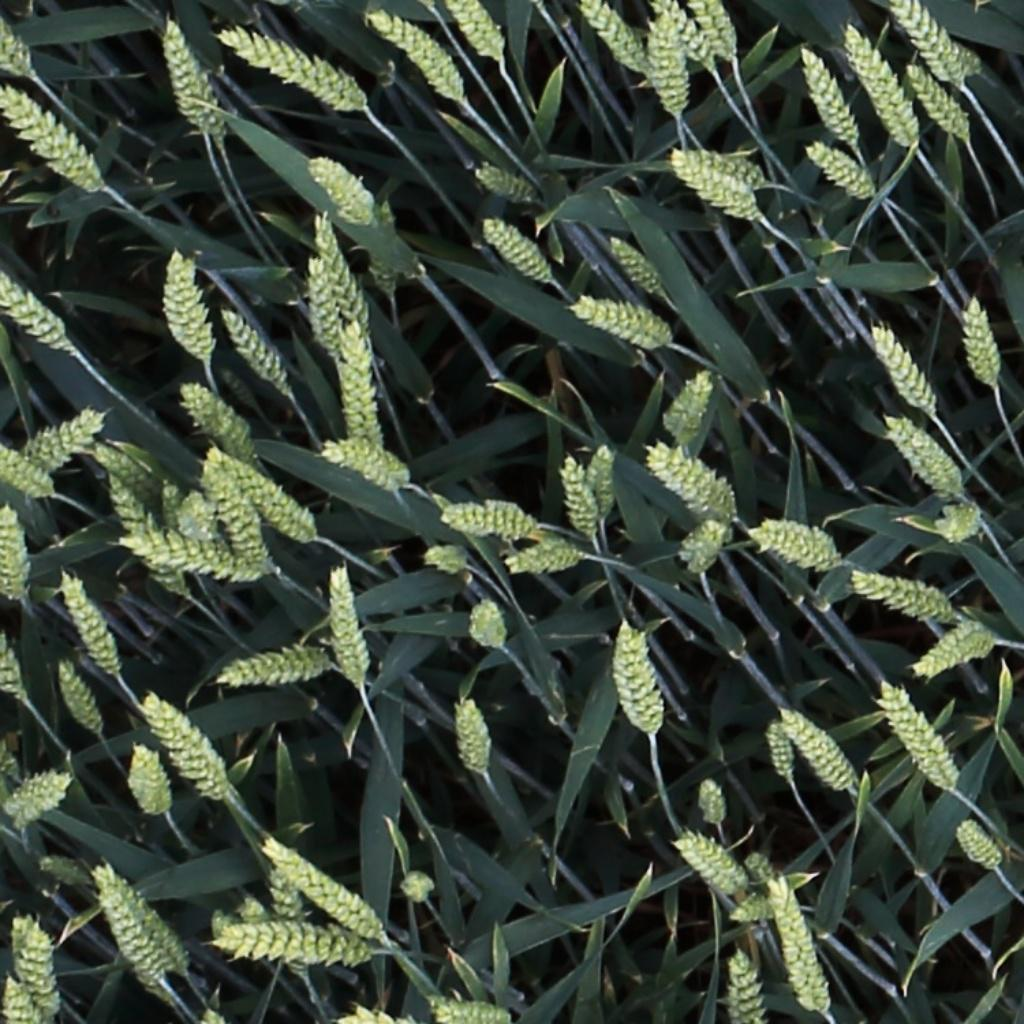0-0: (259, 841, 394, 947), (217, 27, 370, 115), (0, 81, 102, 188), (838, 19, 920, 148), (363, 8, 470, 104), (136, 690, 226, 802), (877, 679, 959, 797), (765, 873, 830, 1018), (207, 451, 316, 537), (91, 871, 166, 987), (213, 920, 375, 973), (202, 455, 272, 576), (113, 867, 191, 973), (305, 207, 370, 334), (793, 39, 862, 151), (212, 303, 292, 398), (865, 320, 940, 419), (54, 569, 120, 681), (154, 19, 218, 133), (890, 0, 969, 90), (174, 379, 256, 465), (775, 707, 856, 794), (882, 413, 963, 499), (645, 445, 734, 518), (901, 57, 973, 143), (0, 270, 72, 352), (162, 248, 213, 361), (614, 621, 664, 736), (565, 297, 675, 349), (263, 857, 312, 973), (576, 0, 649, 77), (326, 561, 368, 693), (912, 616, 1002, 677), (15, 912, 65, 1021), (670, 154, 755, 217), (213, 642, 329, 688), (126, 537, 255, 578), (337, 320, 378, 446), (50, 653, 106, 744), (477, 214, 551, 282), (25, 407, 106, 469), (303, 154, 372, 225), (646, 2, 688, 118), (300, 251, 342, 363), (671, 835, 745, 897), (850, 572, 950, 617), (102, 469, 156, 552), (749, 516, 838, 566), (652, 1, 716, 70), (5, 767, 72, 831), (360, 200, 406, 293), (804, 137, 875, 196), (87, 442, 158, 501), (603, 229, 664, 297), (436, 498, 541, 536), (667, 364, 715, 447), (443, 0, 505, 64), (557, 451, 598, 546), (319, 441, 402, 486), (962, 292, 1000, 390), (126, 742, 176, 815), (0, 443, 56, 500), (690, 0, 738, 65), (453, 694, 487, 782), (681, 516, 727, 580), (953, 819, 1004, 876), (675, 148, 760, 182), (505, 537, 586, 572), (1, 502, 27, 607), (726, 946, 760, 1024), (428, 992, 510, 1024), (472, 162, 536, 202), (0, 12, 36, 83), (761, 718, 797, 787), (584, 439, 613, 522), (177, 484, 214, 548), (214, 361, 259, 413), (468, 595, 505, 655), (0, 972, 35, 1024), (694, 774, 723, 835), (0, 640, 27, 705), (155, 473, 181, 540), (726, 894, 772, 928), (38, 856, 86, 885), (420, 550, 466, 572)
